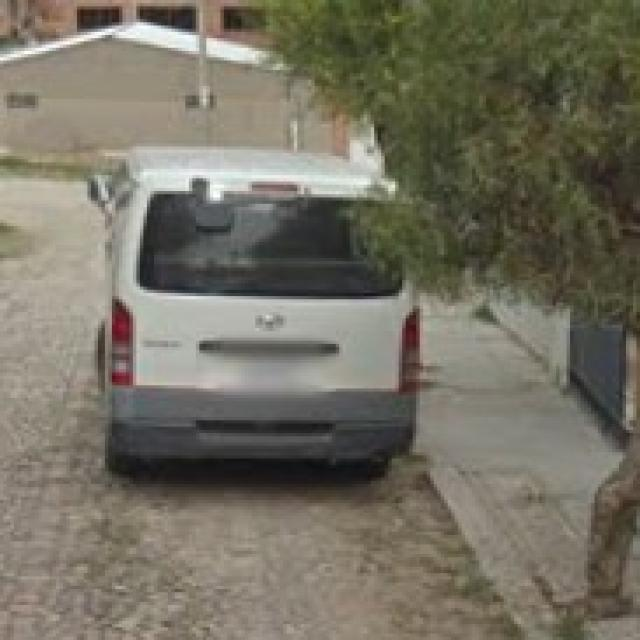car: (80, 150, 436, 499)
